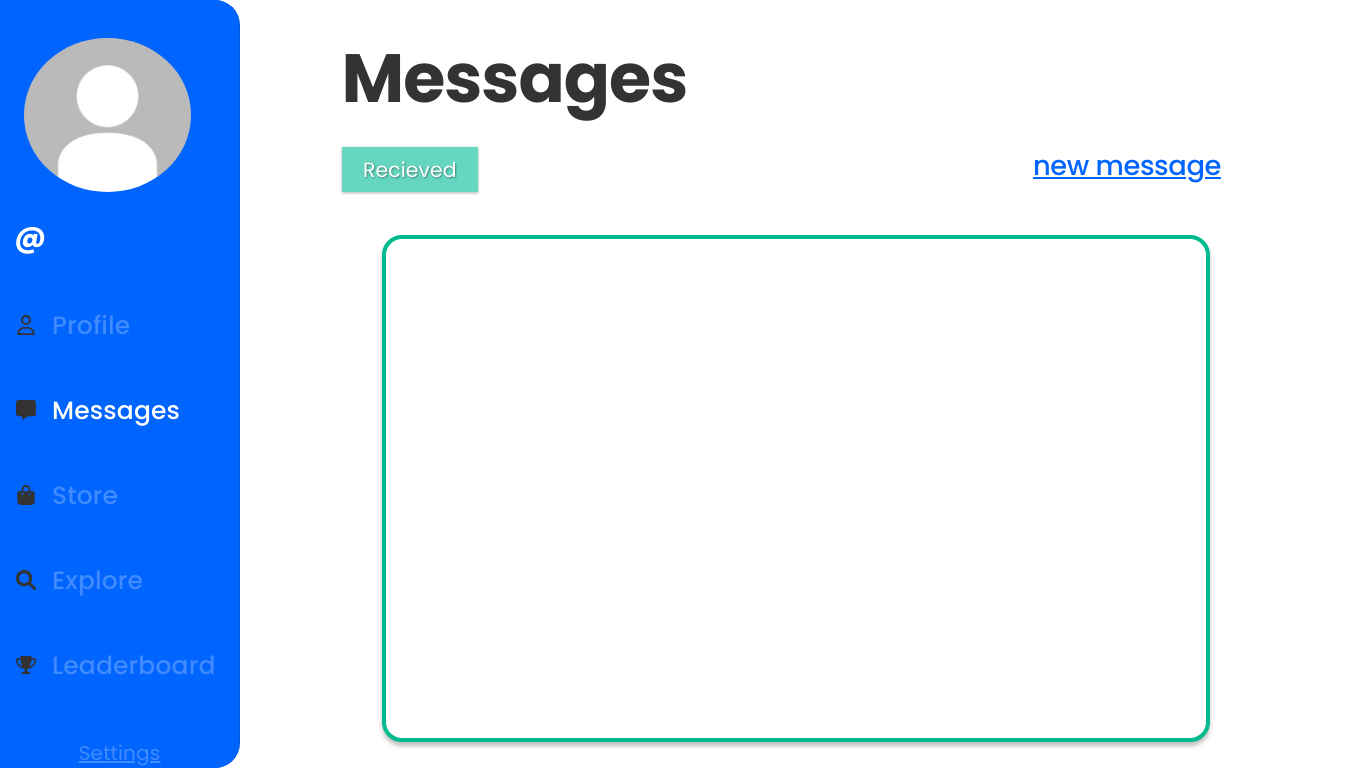
<NewMessage /> › Send button for new message is rendered
Click the button with test id "newMessageButton".
click(1127, 166)  # box [956, 147, 1298, 185]
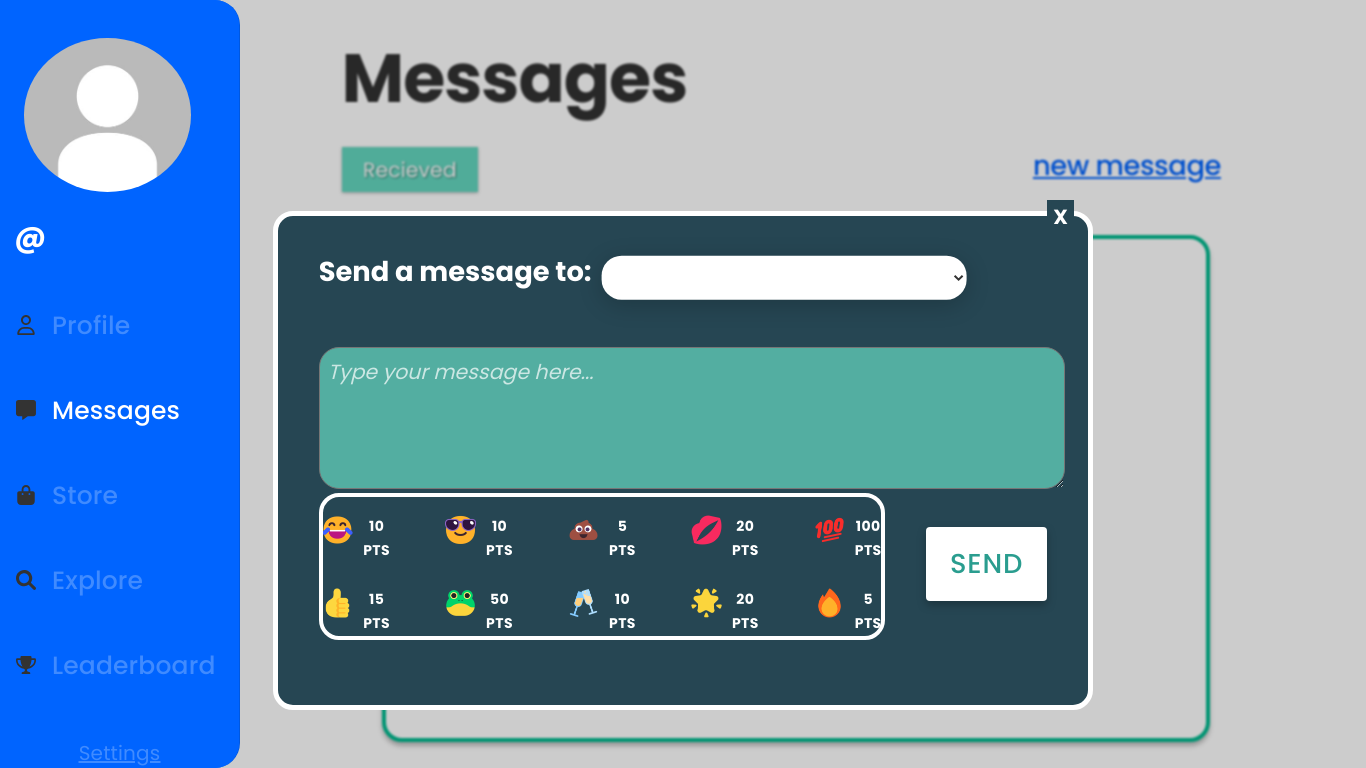
Result: the button with test id "newMessageSendButton" is shown at [926, 527, 1047, 601]
